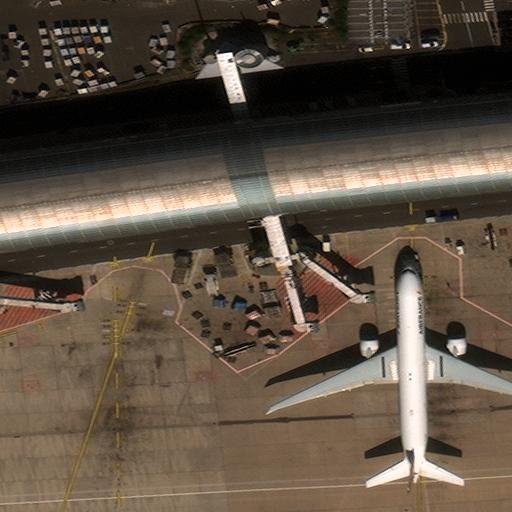Large Civil Transport: (270, 263, 511, 492)
